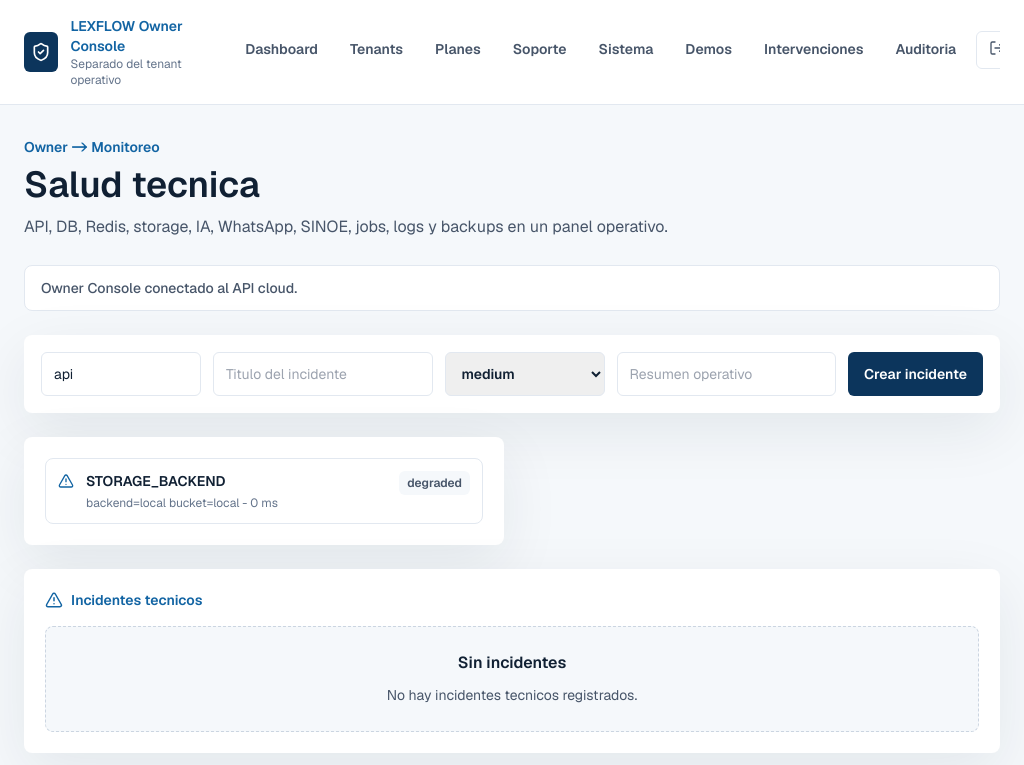
Scenario: Owner Console UI › creates and resolves system incidents through owner API
The width and height of the screenshot is (1024, 765).
Expected: the text "Owner Console conectado al API cloud." is shown, [24,265,1000,311]
Expected: the text "backend=local bucket=local - 0 ms" is shown, [86,495,278,511]
Type "API error rate" into the field with placeholder "Titulo del incidente".
click(323, 374); type("API error rate")  # box [213,352,432,396]
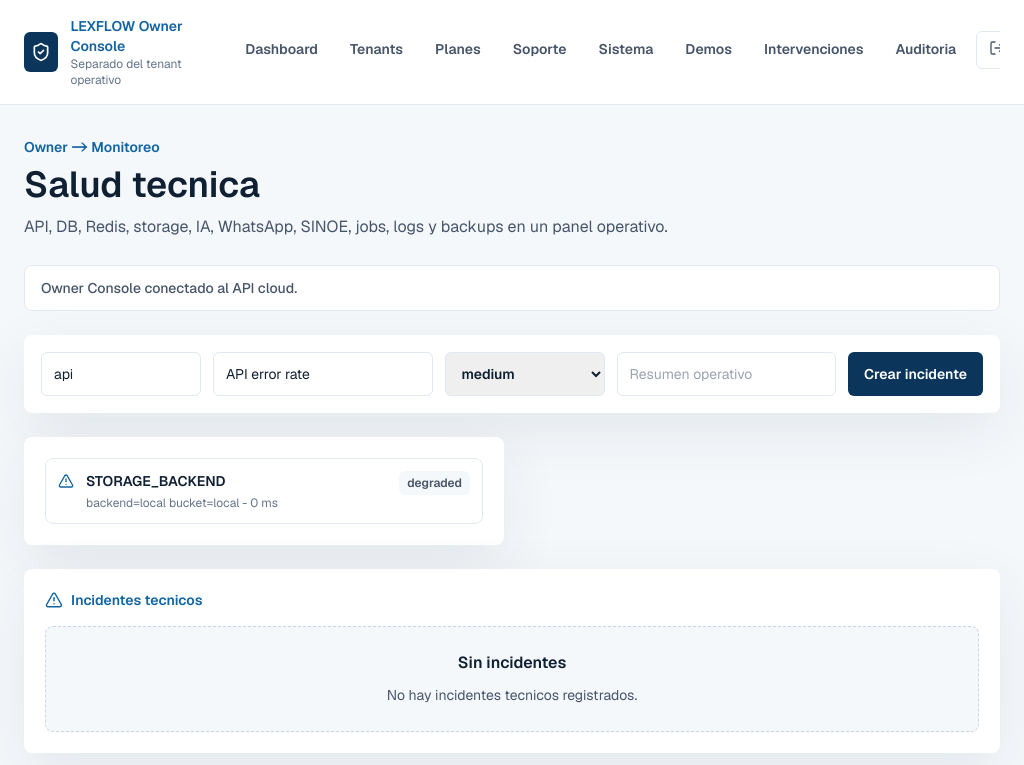
Select "high" in the dropdown showing "medium" at (524, 374), box [444,352,604,396]
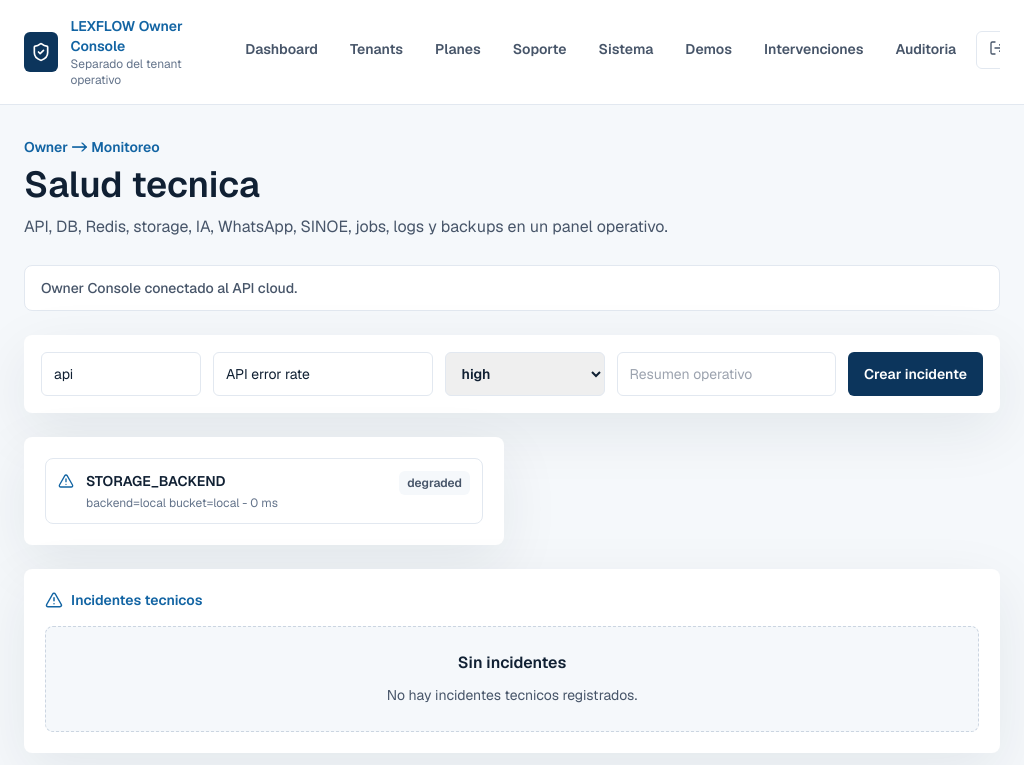
Type "5xx elevados" into the field with placeholder "Resumen operativo".
click(726, 374); type("5xx elevados")  # box [616,352,836,396]
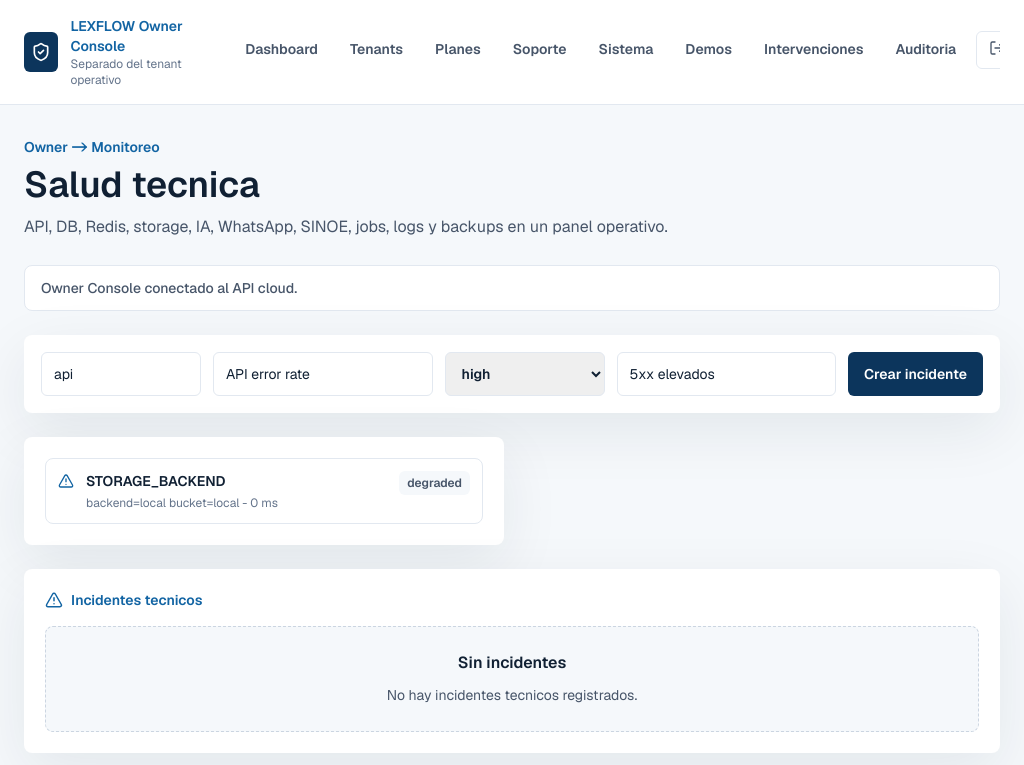
Click the button "Crear incidente".
click(916, 374)  # box [848,352,983,396]
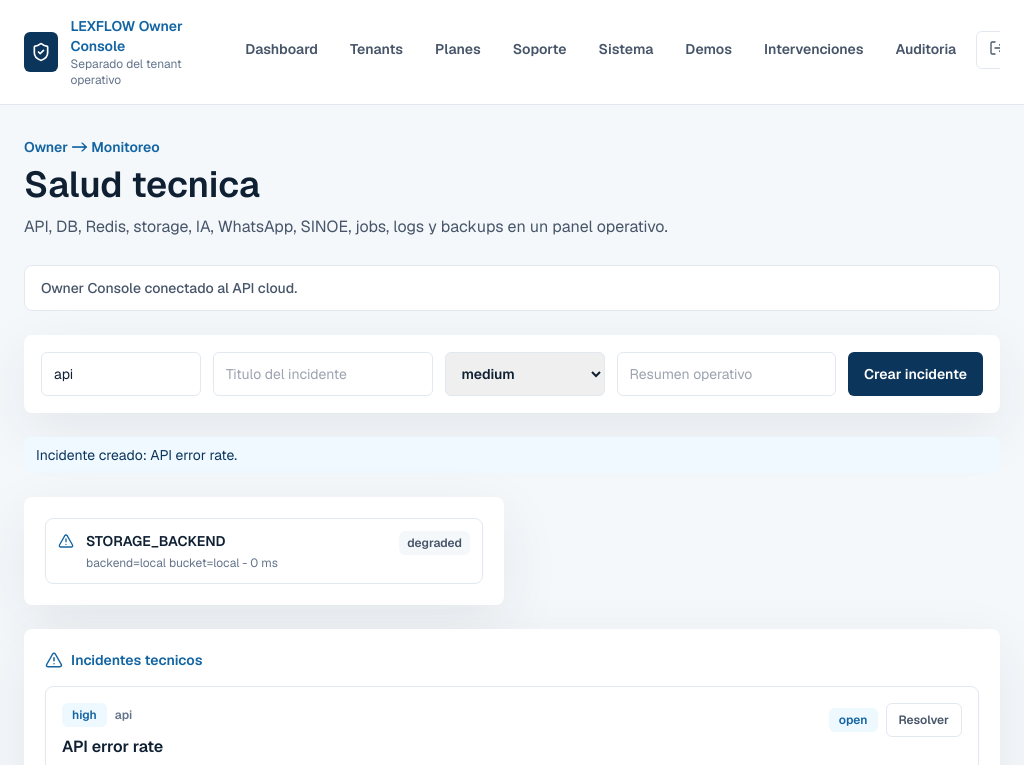
Expected: the text "Incidente creado: API error rate." is shown, [24,437,1000,473]
Click the button "Resolver".
click(924, 720)  # box [886,703,962,737]
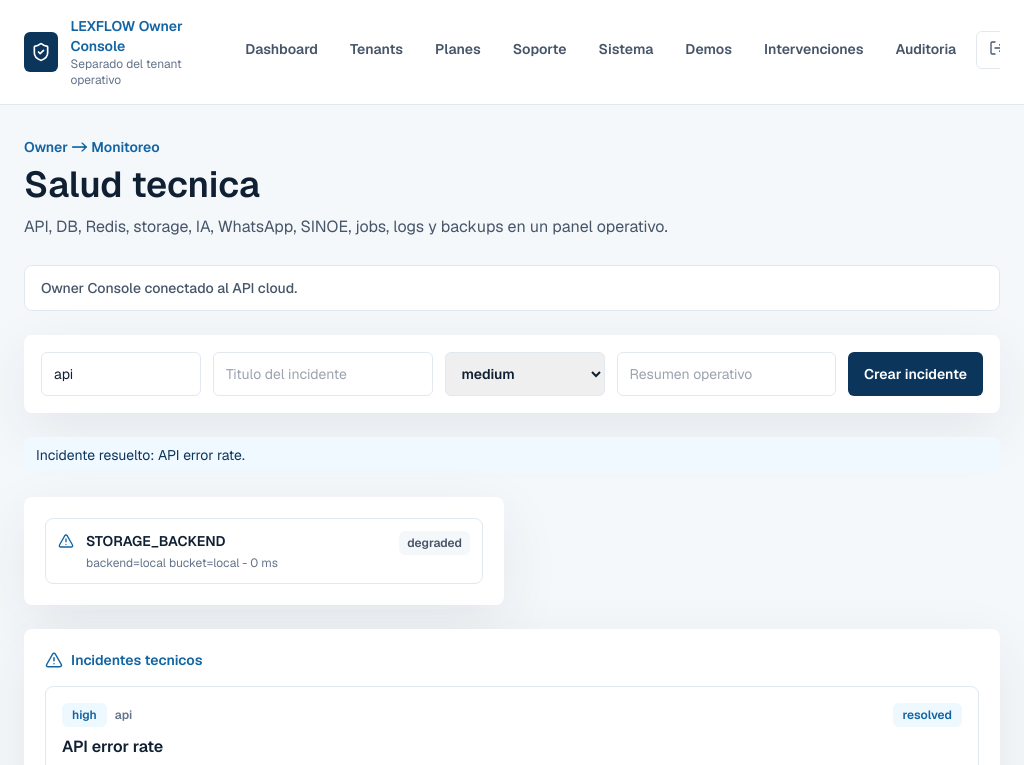
Expected: the text "Incidente resuelto: API error rate." is shown, [24,437,1000,473]
